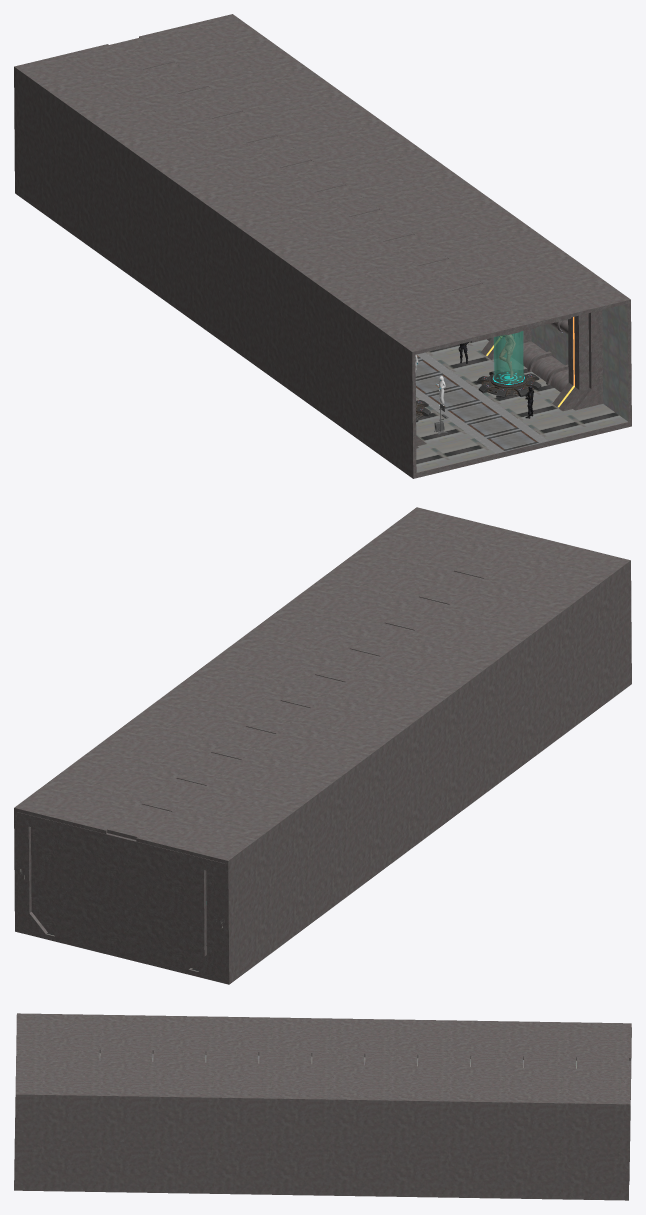
File: SUP_Clone_Human_Sleep_Module_Lab.glb
The picture shows the model from 3 angles, top to bottom: view 1: azimuth 30°, elevation 25°; view 2: azimuth 150°, elevation 25°; view 3: azimuth 270°, elevation 25°; orthographic projection. The views are drawn at different scales.
Visible parts, largest first — view 1: SUP_Clone_Human_Sleep_Module_Lab; view 2: SUP_Clone_Human_Sleep_Module_Lab; view 3: SUP_Clone_Human_Sleep_Module_Lab.
Boxes of the visible parts, <box> form: SUP_Clone_Human_Sleep_Module_Lab: <box>14,14,631,478</box>; SUP_Clone_Human_Sleep_Module_Lab: <box>14,507,631,984</box>; SUP_Clone_Human_Sleep_Module_Lab: <box>14,1013,631,1200</box>.
Bounding box in the file's own units: 266 × 156 × 837.
Materials: 46 (22 with a texture image).
